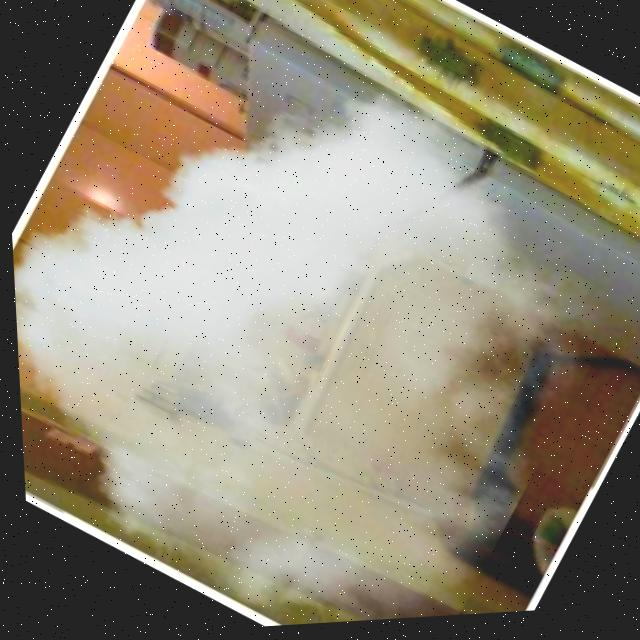Smoke: (11, 0, 640, 629)
